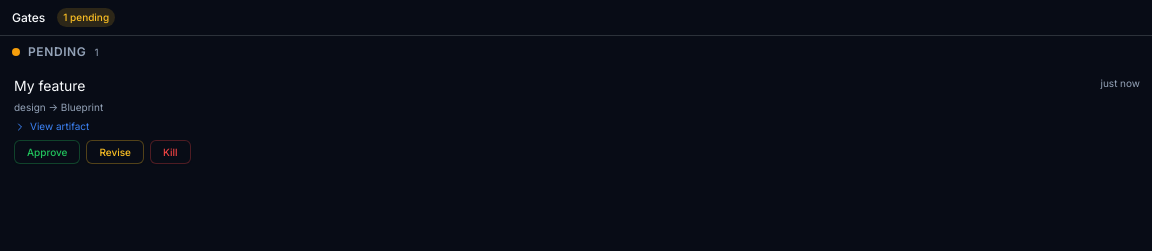
Scenario: GateView inline artifact (COCKPIT-4) › expands to render the snapshot markdown body on click
The image size is (1152, 251).
Click the button with test id "gate-artifact-toggle": [52, 126] box [14,119,89,134]
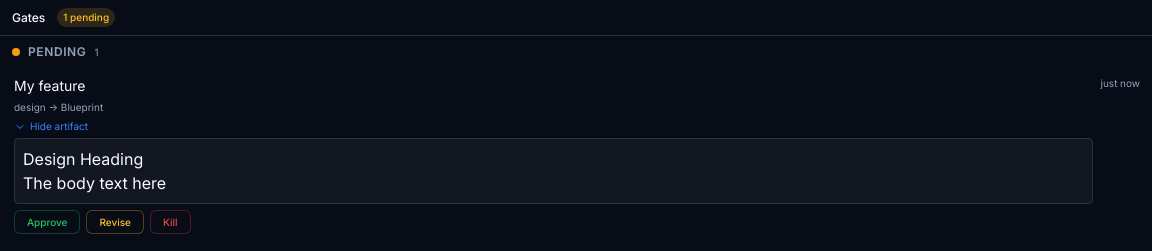
expect the element with test id "gate-artifact-body" is shown: met, box [14,138,1092,204]
expect the element with test id "gate-artifact-body" shows "Design Heading": met, box [23,149,143,169]
expect the element with test id "gate-artifact-body" shows "The body text here": met, box [23,173,166,193]
